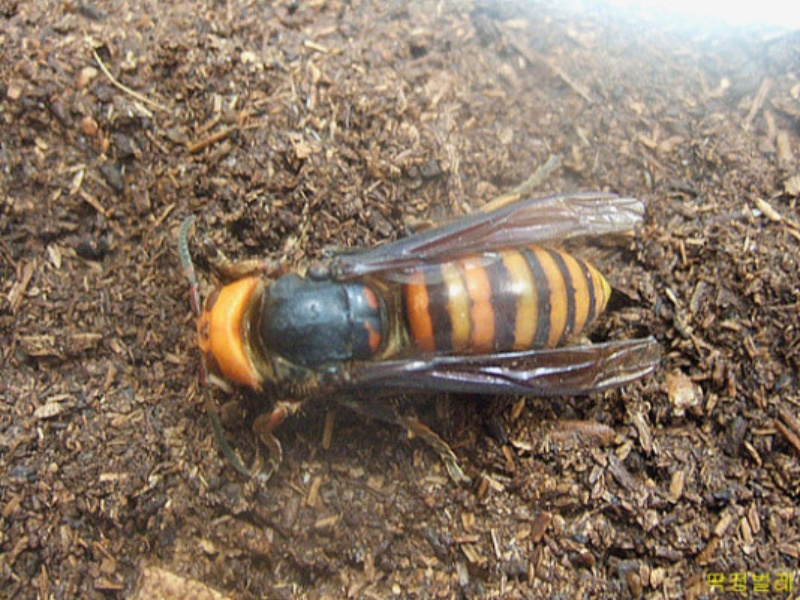asian_giant_hornet: (181, 234, 616, 429)
